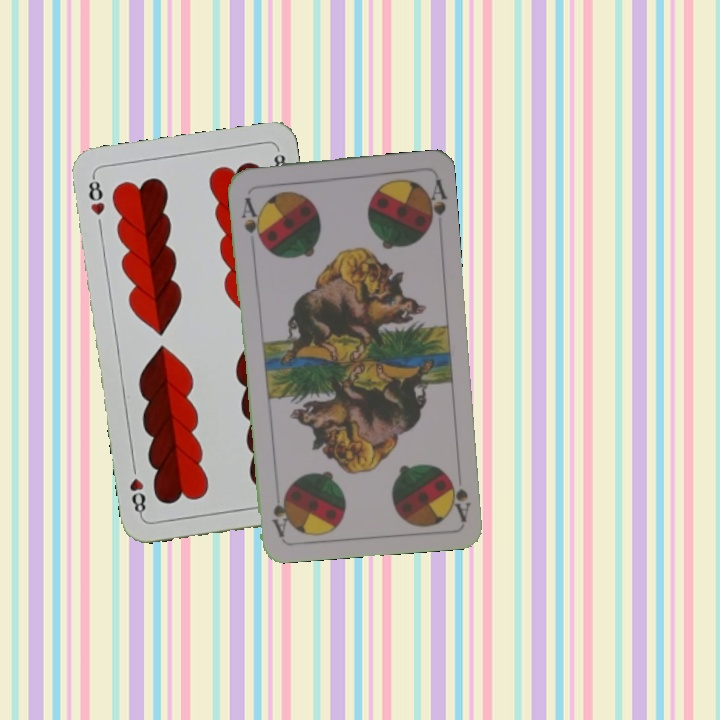H8: (84, 172, 108, 218)
SA: (237, 193, 266, 247), (443, 470, 472, 523)
